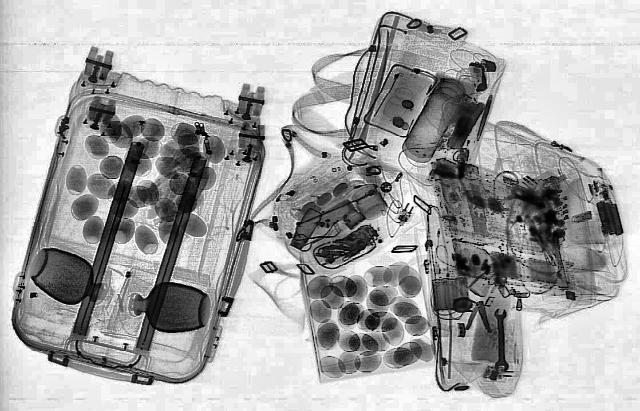Wrench: (492, 308, 508, 370)
